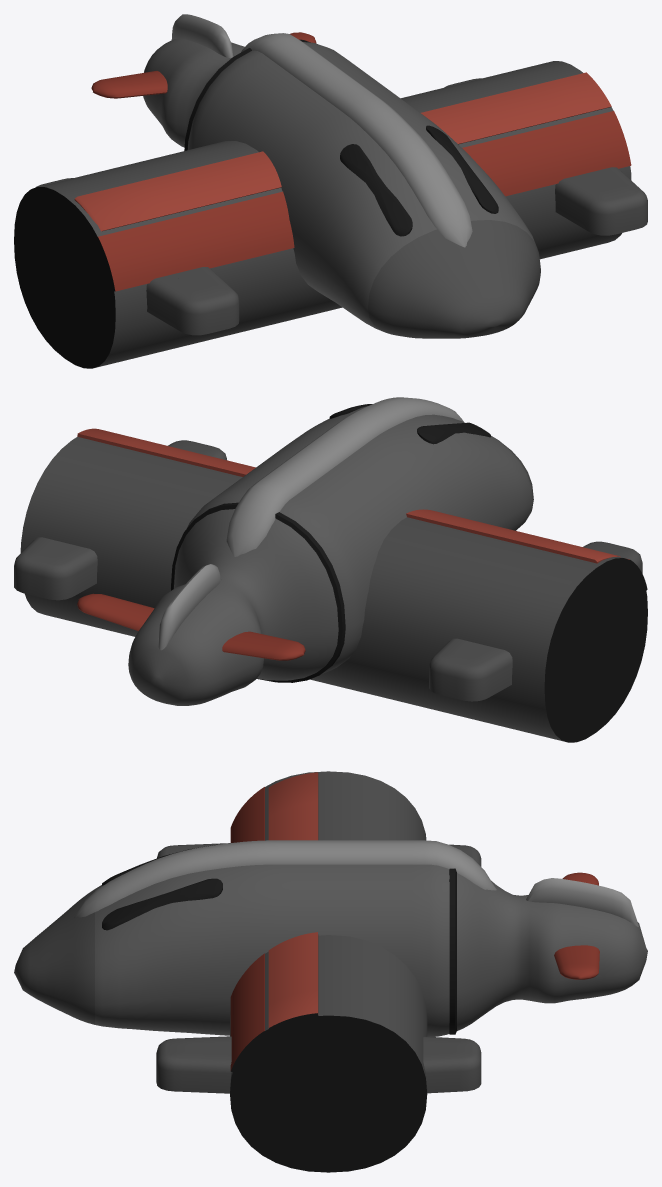
The model's file is longship_mid.glb.
The picture shows the model from 3 angles, top to bottom: view 1: azimuth 30°, elevation 25°; view 2: azimuth 150°, elevation 25°; view 3: azimuth 270°, elevation 25°; orthographic projection. The views are drawn at different scales.
Visible parts, largest first — view 1: hull.001, beam.001, band_lower.001, band_upper.001, spine.001, tooth_f_l.001, tooth_f_r.001, vent-1.001, canard_l.001, dorsal.001, vent1.001, hull_seam0.001; view 2: beam.001, hull.001, spine.001, band_upper.001, tooth_r_r.001, tooth_r_l.001, hull_seam0.001, dorsal.001, canard_l.001, canard_r.001, vent-1.001, tooth_f_l.001 (+1 smaller); view 3: hull.001, beam.001, spine.001, band_upper.001, band_lower.001, tooth_f_r.001, tooth_r_r.001, dorsal.001, vent1.001, canard_r.001, hull_seam0.001.
Boxes of the visible parts, <box> form: hull.001: <box>143,38,540,338</box>; beam.001: <box>14,61,631,368</box>; band_lower.001: <box>94,111,631,291</box>; band_upper.001: <box>74,72,611,231</box>; spine.001: <box>241,33,472,247</box>; tooth_f_l.001: <box>146,267,239,335</box>; tooth_f_r.001: <box>555,167,647,235</box>; vent-1.001: <box>340,144,412,236</box>; canard_l.001: <box>91,71,167,98</box>; dorsal.001: <box>171,14,233,57</box>; vent1.001: <box>426,125,498,213</box>; hull_seam0.001: <box>184,39,310,150</box>; beam.001: <box>20,437,647,742</box>; hull.001: <box>128,406,533,705</box>; spine.001: <box>226,397,463,556</box>; band_upper.001: <box>77,428,620,563</box>; tooth_r_r.001: <box>14,537,97,600</box>; tooth_r_l.001: <box>429,638,512,701</box>; hull_seam0.001: <box>171,502,345,682</box>; dorsal.001: <box>158,564,221,650</box>; canard_l.001: <box>222,631,305,660</box>; canard_r.001: <box>77,593,154,630</box>; vent-1.001: <box>417,422,490,444</box>; tooth_f_l.001: <box>583,541,642,573</box>; hull.001: <box>14,864,647,1036</box>; beam.001: <box>230,771,427,1172</box>; spine.001: <box>74,840,496,917</box>; band_upper.001: <box>268,772,318,1035</box>; band_lower.001: <box>230,787,270,1073</box>; tooth_f_r.001: <box>156,1036,231,1093</box>; tooth_r_r.001: <box>423,1036,481,1093</box>; dorsal.001: <box>526,878,638,926</box>; vent1.001: <box>102,878,222,930</box>; canard_r.001: <box>554,945,599,979</box>; hull_seam0.001: <box>449,868,456,1034</box>.
Size of the model in its own units: 24 by 9.7 by 26.34.
